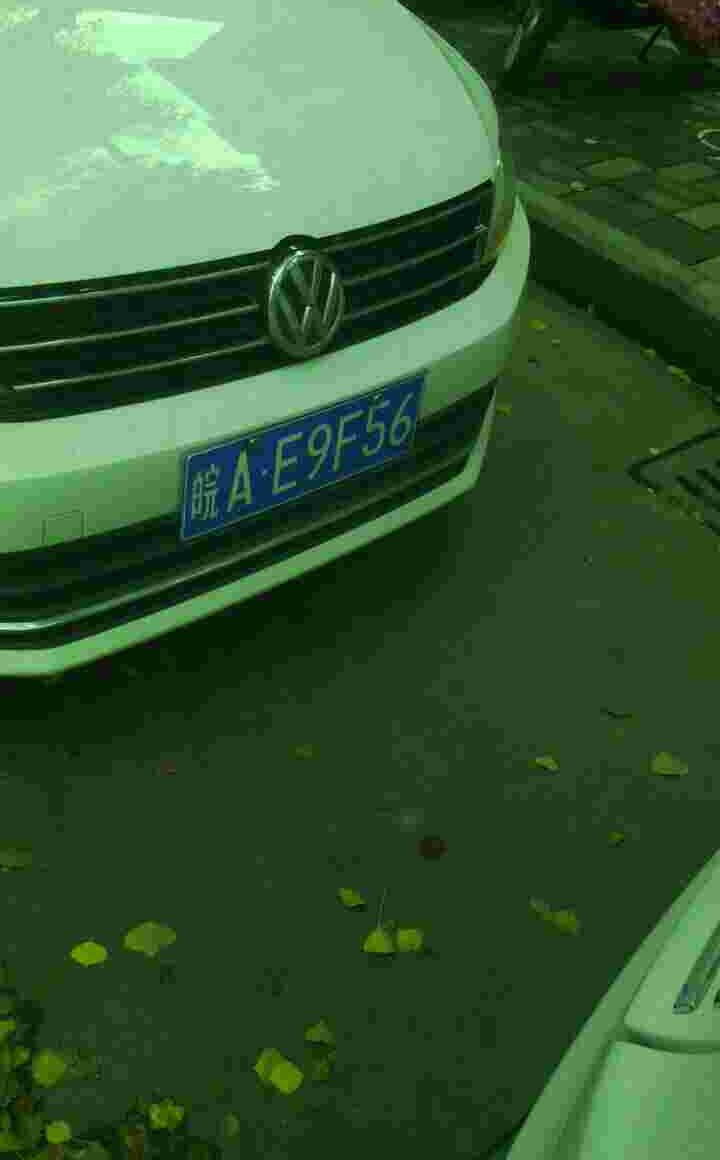license_plate: (174, 377, 429, 539)
